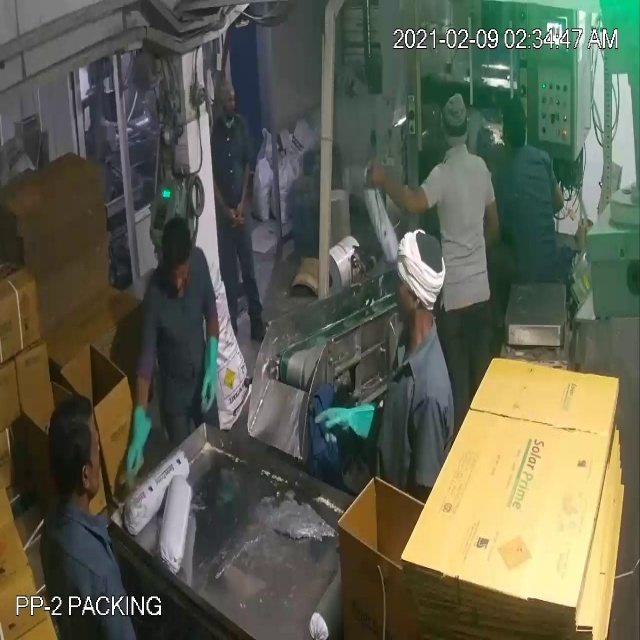Guantes: (97, 392, 157, 488), (186, 334, 231, 428)
Sin_guantes: (358, 153, 434, 228), (204, 164, 243, 234), (230, 152, 260, 223)
